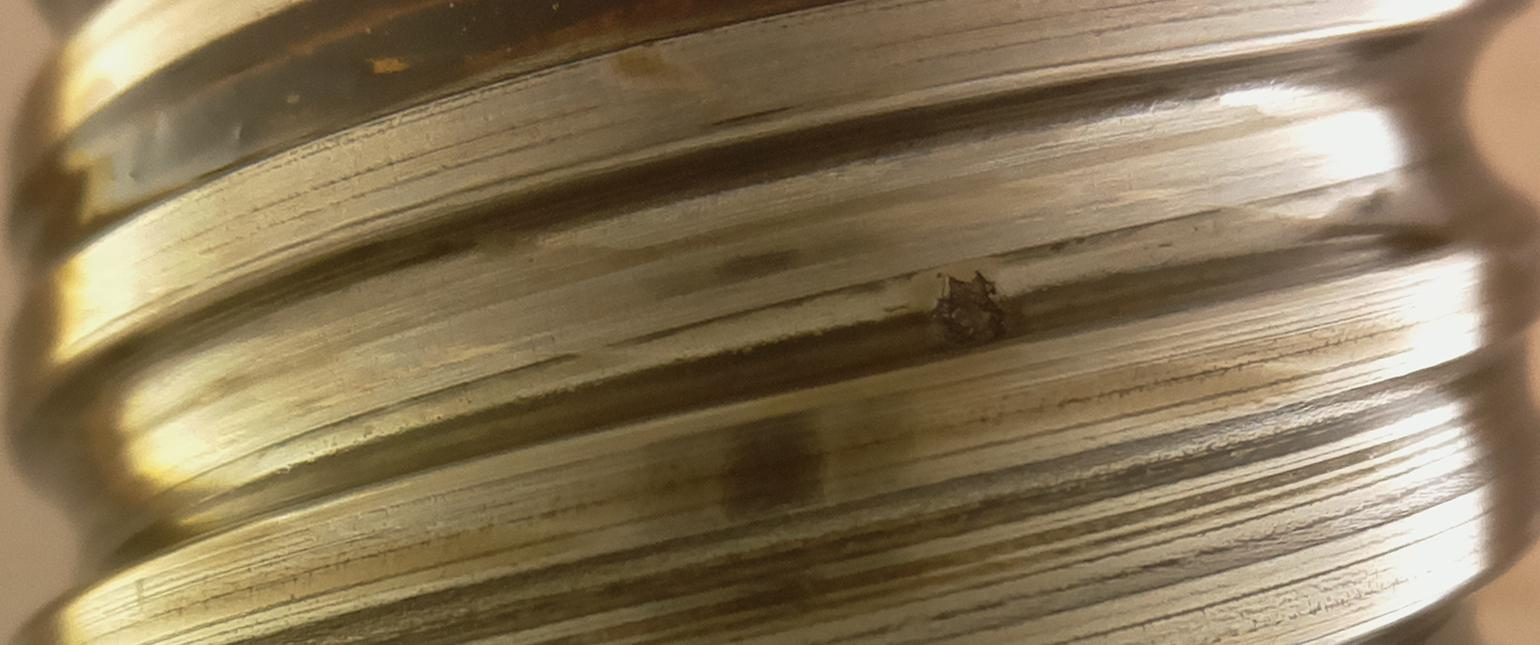pitting: (926, 270, 1022, 354)
